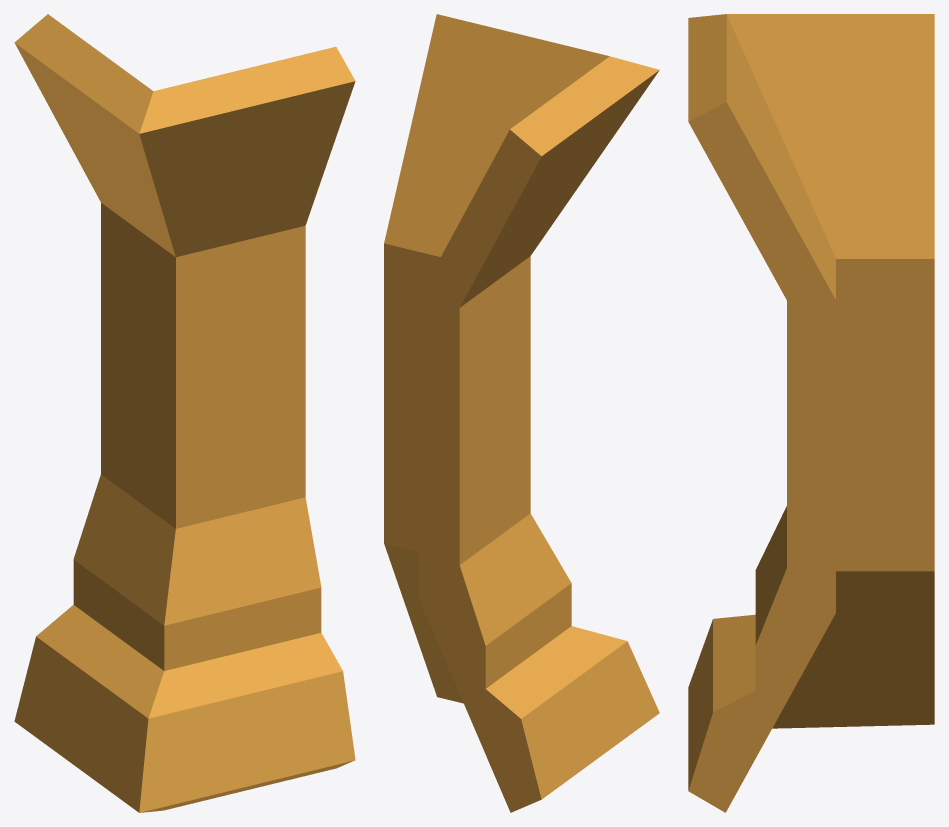
Rendered from scifi-scifi-wall-corridor-edge-stripe.glb.
3 views of the same model, side by side, from view 1: azimuth 30°, elevation 25°; view 2: azimuth 150°, elevation 25°; view 3: azimuth 270°, elevation 25° (orthographic). The views are drawn at different scales.
Visible parts, largest first — view 1: scifi-wall-corridor-edge-stripe; view 2: scifi-wall-corridor-edge-stripe; view 3: scifi-wall-corridor-edge-stripe.
Part boxes in pixels (x1,y1,x2,y2): scifi-wall-corridor-edge-stripe: [14, 14, 355, 812]; scifi-wall-corridor-edge-stripe: [384, 14, 659, 812]; scifi-wall-corridor-edge-stripe: [688, 14, 934, 812].
Bounding box in the file's own units: 1 × 3.19 × 1.
